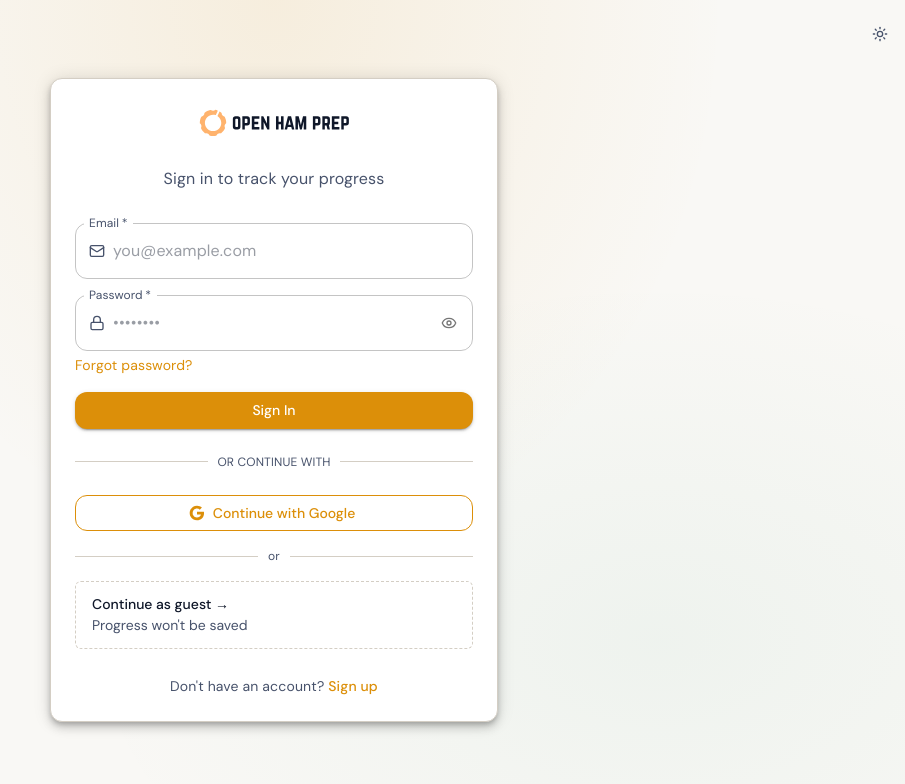
Auth › sign in › passes any other failure through unchanged
The width and height of the screenshot is (905, 784).
Type "ham@example.com" into the field labelled "Email" at (293, 251), box [113,223,473,279]
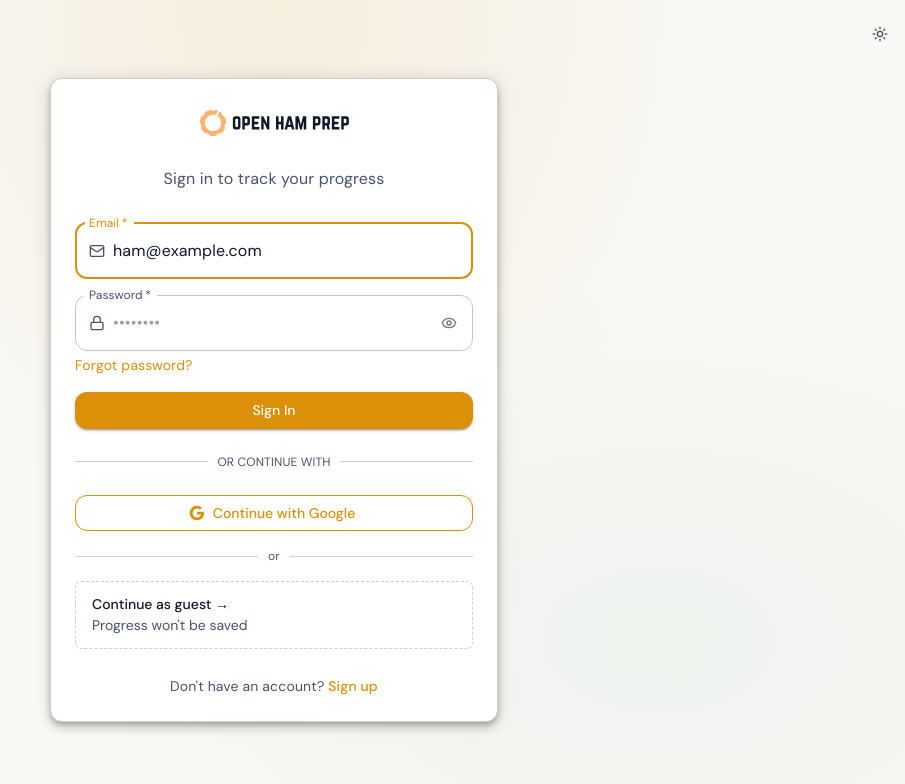
Type "secret123" into the password field labelled "Password *" at (270, 323), box [113,295,428,351]
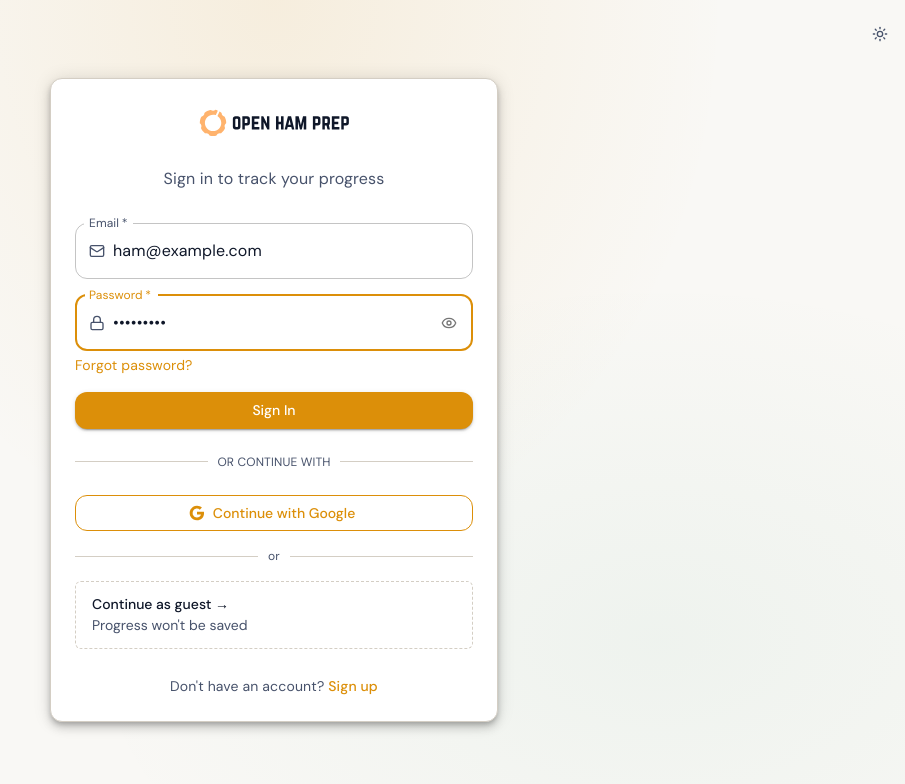
Click the button "Sign In" at (274, 410), box [75,392,473,429]
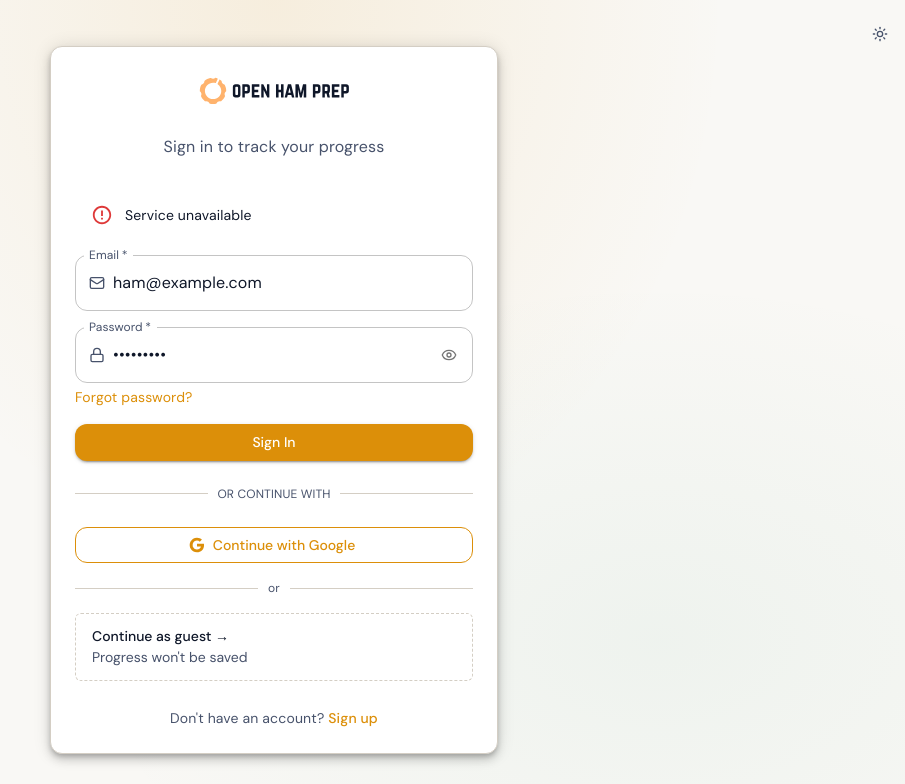
Expected: the text "Service unavailable" is shown, [125,206,252,224]
